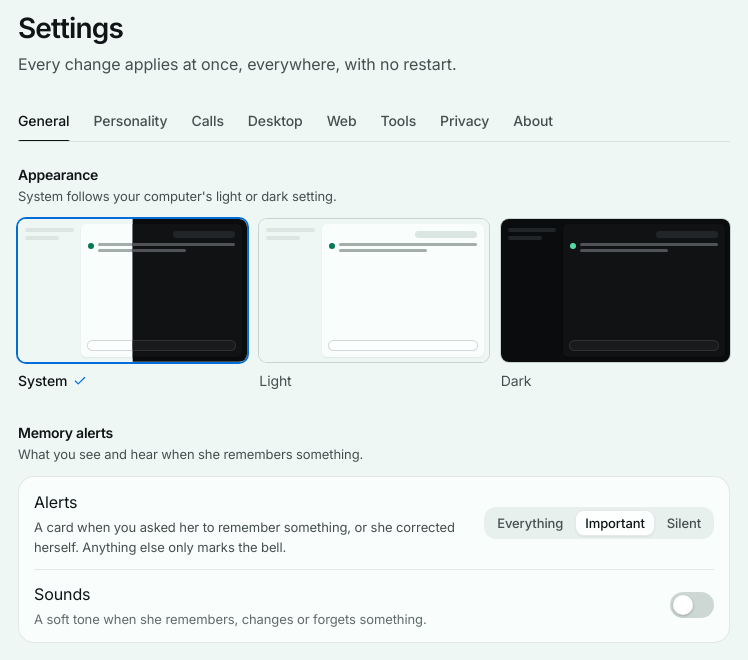
the settings page › moves between parts without adding to the back history
Step 1. Click the tab "Desktop" → click(275, 121), box [248,101,303,141]
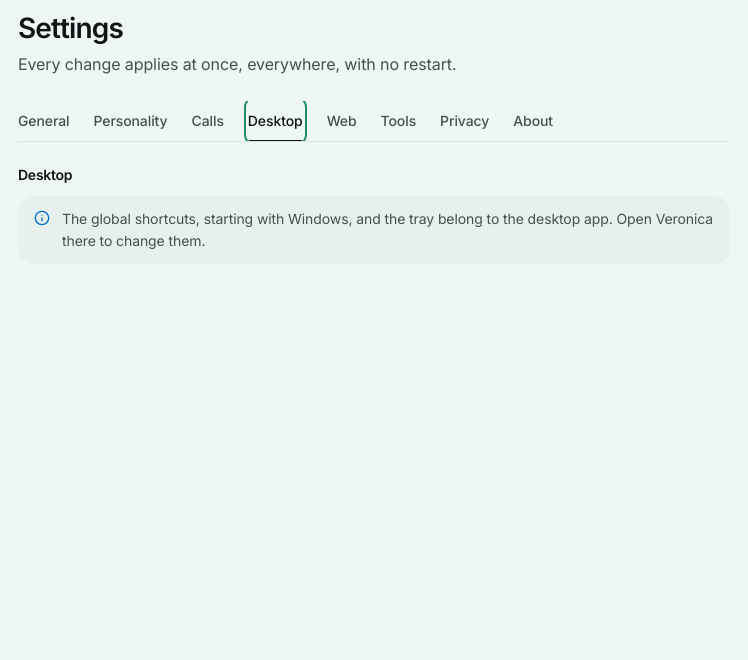
Now the panel shows "belong to the desktop app", box [62,210,713,249]
